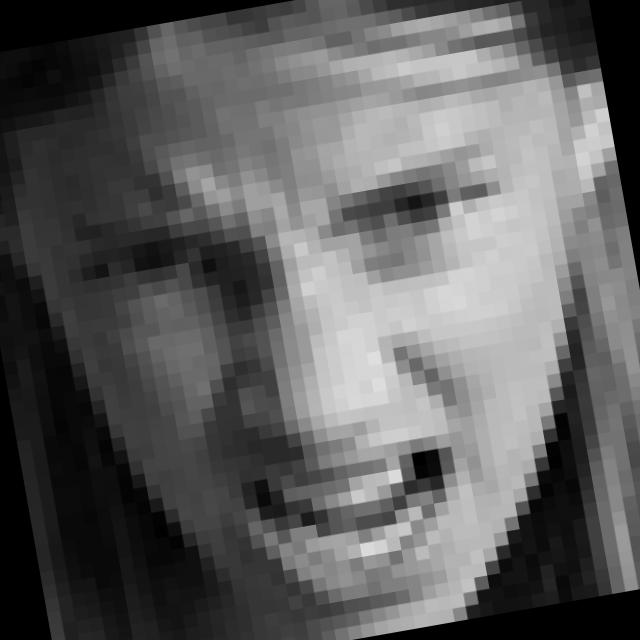angry: (56, 122, 581, 640)
